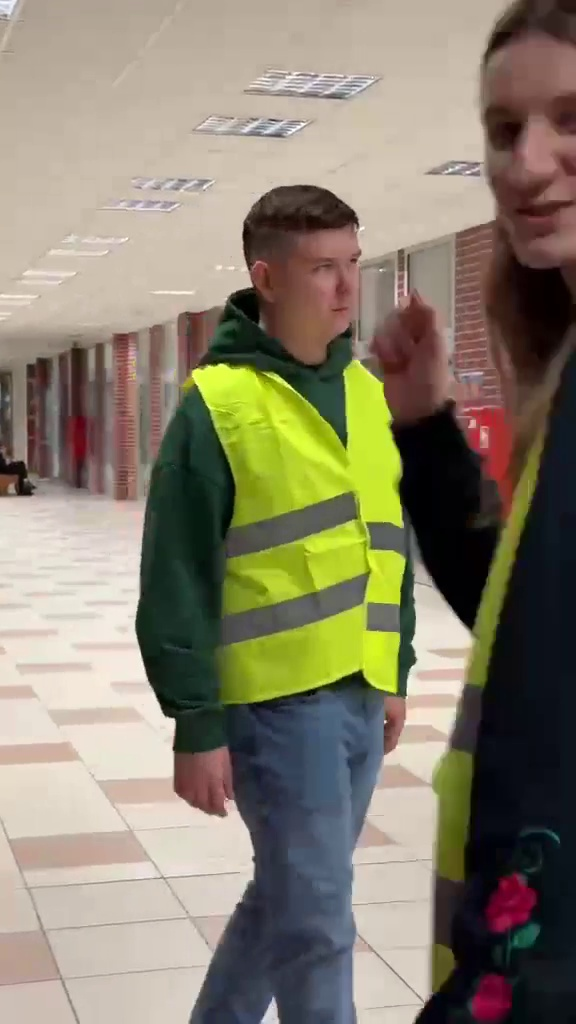vest: (117, 164, 402, 989), (421, 11, 576, 999)
